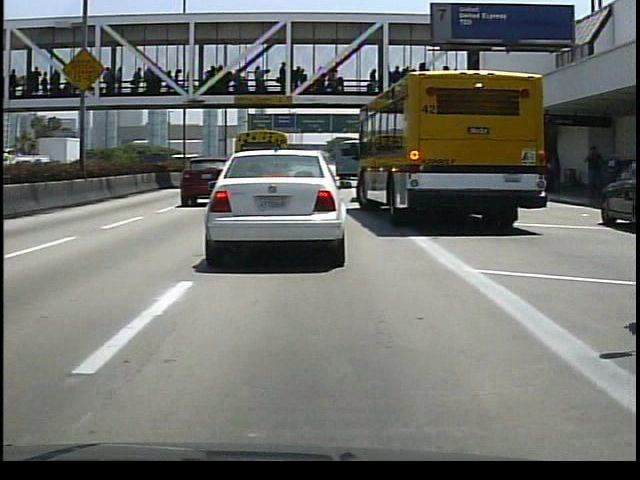person: (582, 144, 607, 204)
